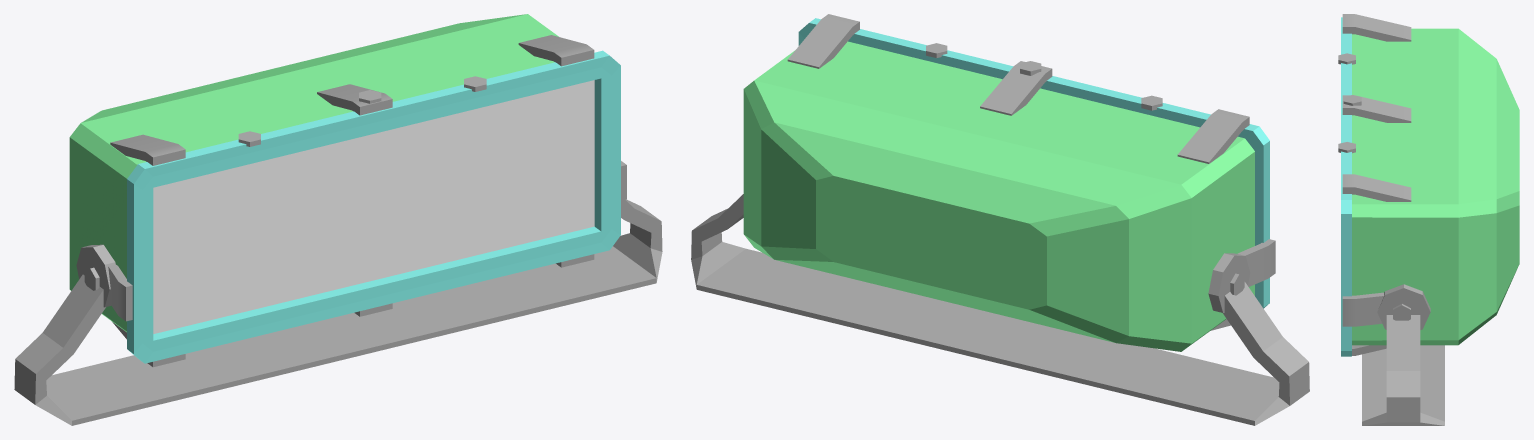
Rendered from LightBox.fbx.
3 renders of one model, left to right at view 1: azimuth 30°, elevation 25°; view 2: azimuth 150°, elevation 25°; view 3: azimuth 270°, elevation 25°, orthographic. The views are drawn at different scales.
Visible parts, largest first — view 1: LightBox; view 2: LightBox; view 3: LightBox.
Part boxes in pixels (bbox=[...]): LightBox: bbox=[14, 14, 662, 425]; LightBox: bbox=[691, 14, 1309, 425]; LightBox: bbox=[1338, 14, 1519, 425].
Size of the model in its own units: 12.63 by 5.07 by 3.94.
